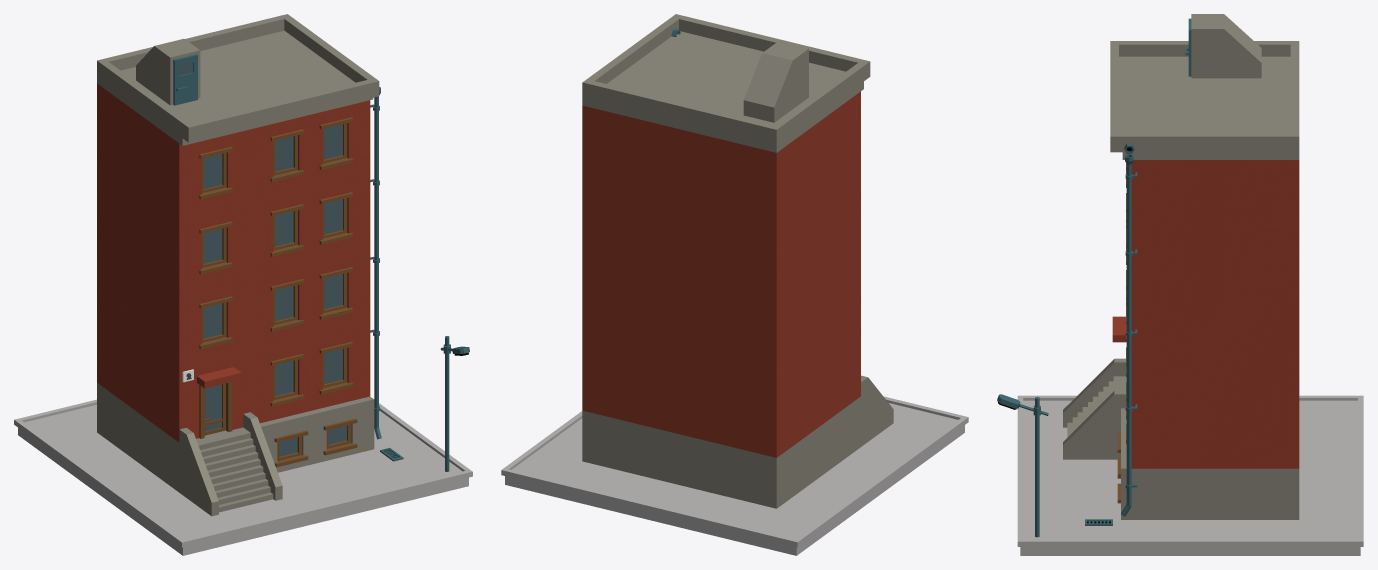
The model's file is pp-sfhouse.glb.
3 views of the same model, side by side, from view 1: azimuth 30°, elevation 25°; view 2: azimuth 150°, elevation 25°; view 3: azimuth 270°, elevation 25° (orthographic). The views are drawn at different scales.
Parts seen in each view (by area): view 1: Object293; view 2: Object293; view 3: Object293.
Part boxes in pixels (bbox=[...]): Object293: bbox=[14, 14, 472, 555]; Object293: bbox=[501, 14, 968, 555]; Object293: bbox=[997, 14, 1363, 555].
Size of the model in its own units: 12.2 by 16.86 by 12.91.
4 materials, 4 textured.
